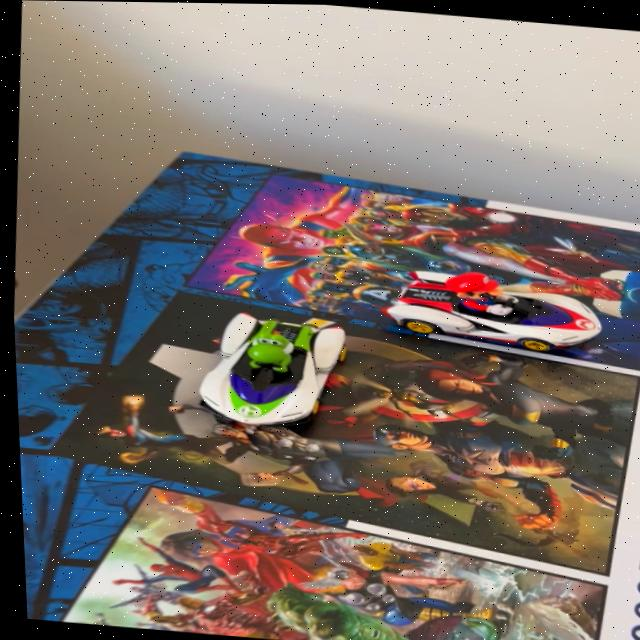mario: (381, 263, 624, 367)
yoshi: (172, 297, 357, 440)
